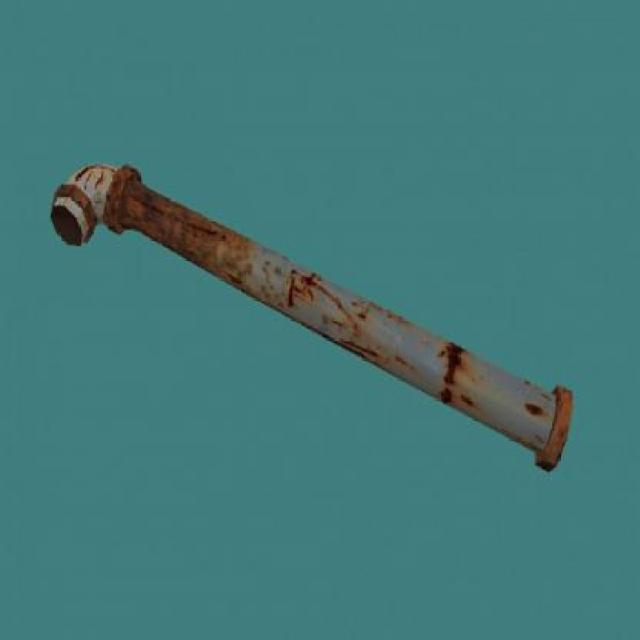corrosion: (54, 164, 575, 471)
